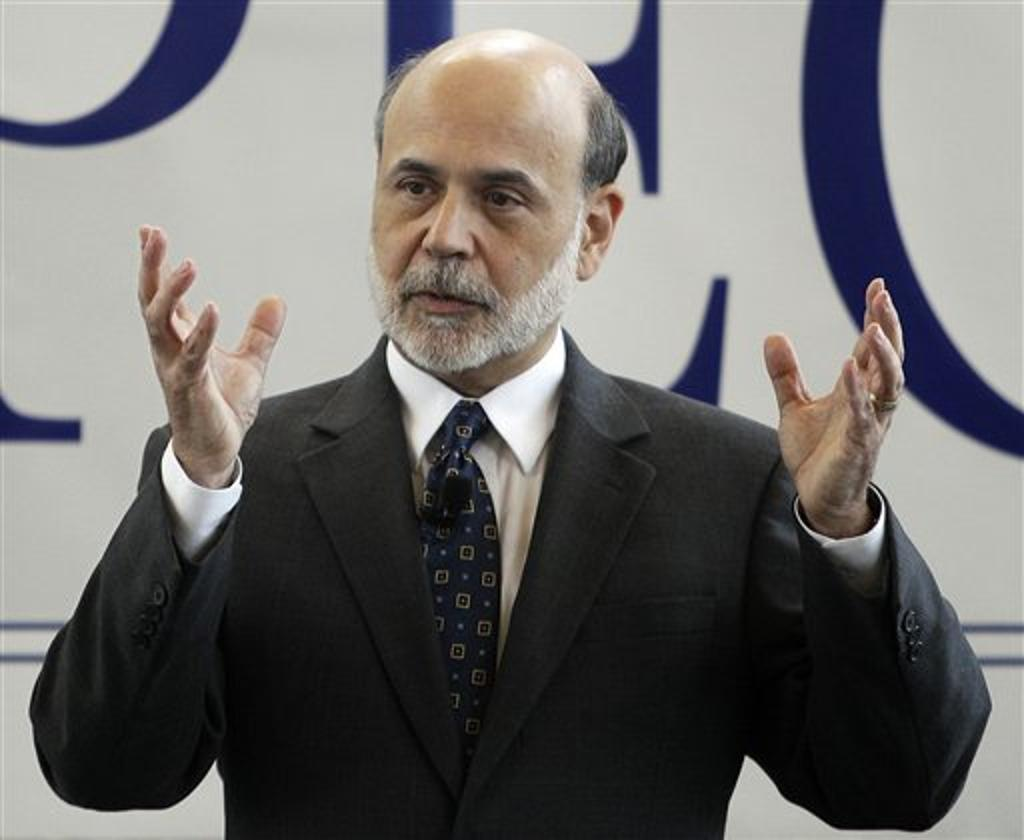face: (375, 55, 561, 361)
